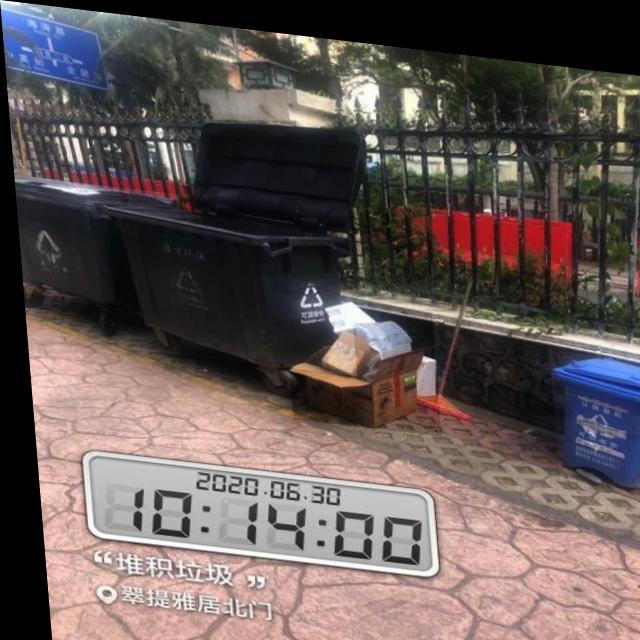garbage: (279, 287, 435, 426)
garbage_bin: (103, 201, 352, 368), (11, 176, 184, 309), (545, 337, 640, 477)
